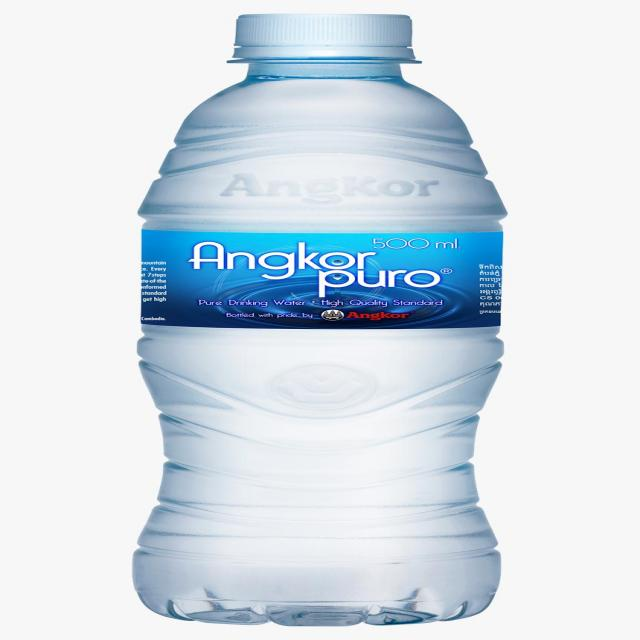bottle: (116, 3, 512, 615)
